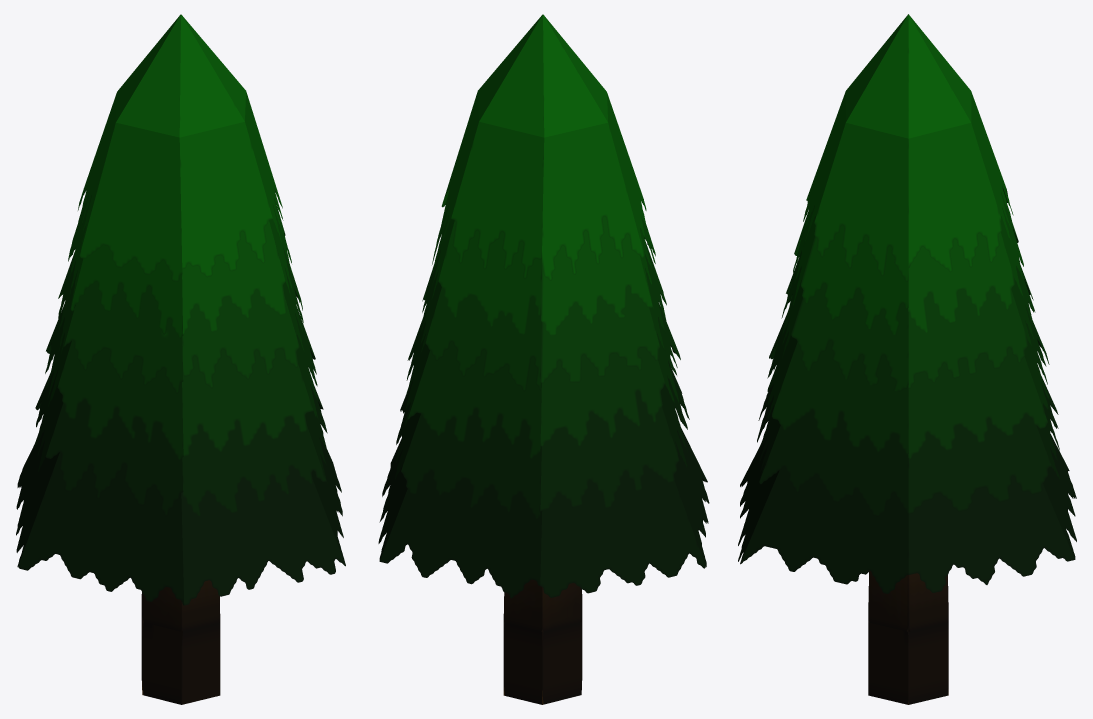
File: PineTree.fbx
The picture shows the model from 3 angles, left to right: view 1: azimuth 30°, elevation 25°; view 2: azimuth 150°, elevation 25°; view 3: azimuth 270°, elevation 25°; orthographic projection.
Parts seen in each view (by area): view 1: pine tree; view 2: pine tree; view 3: pine tree.
Part boxes in pixels (x1,y1,x2,y2): pine tree: [16, 14, 345, 704]; pine tree: [378, 14, 709, 704]; pine tree: [738, 14, 1076, 704].
Size of the model in its own units: 308 by 605 by 278.
1 material, 1 textured.
